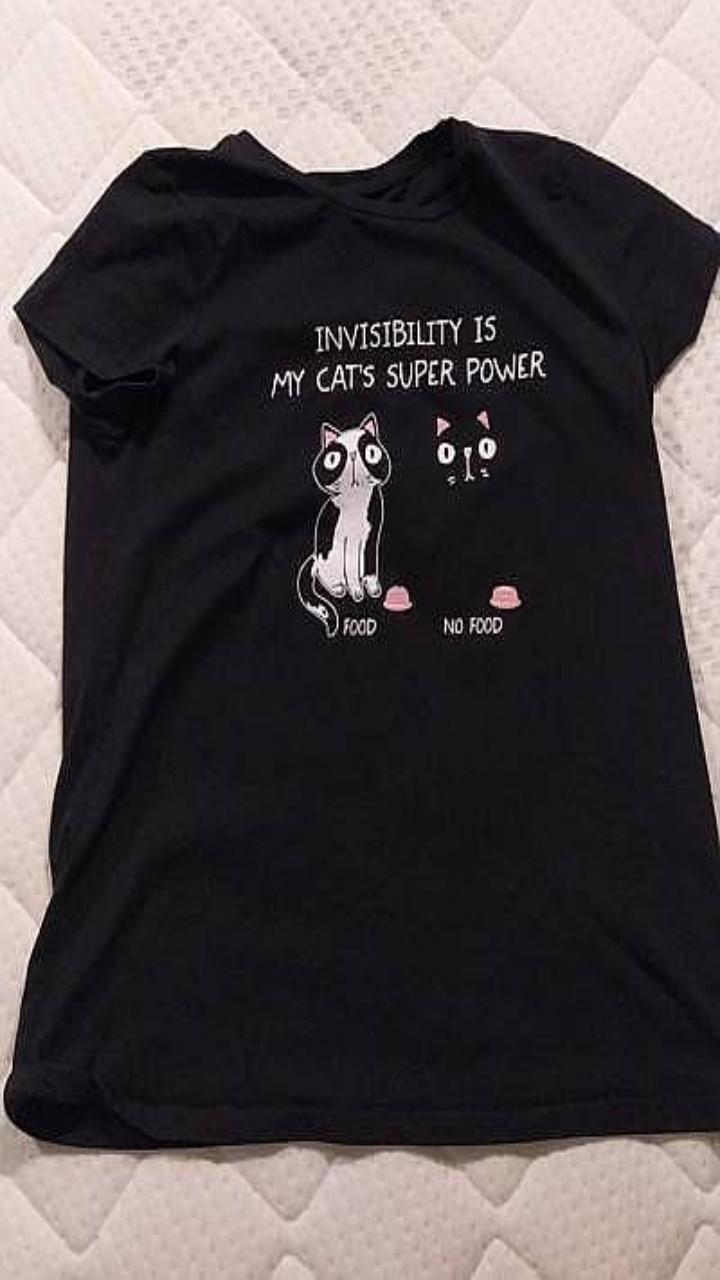T-Shirt: (4, 117, 719, 1147)
